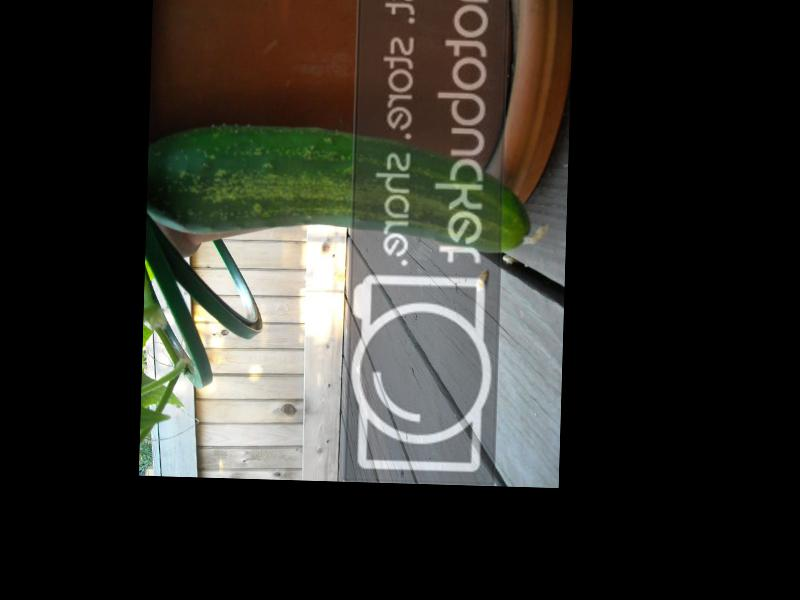Cucumber: (149, 122, 549, 254)
